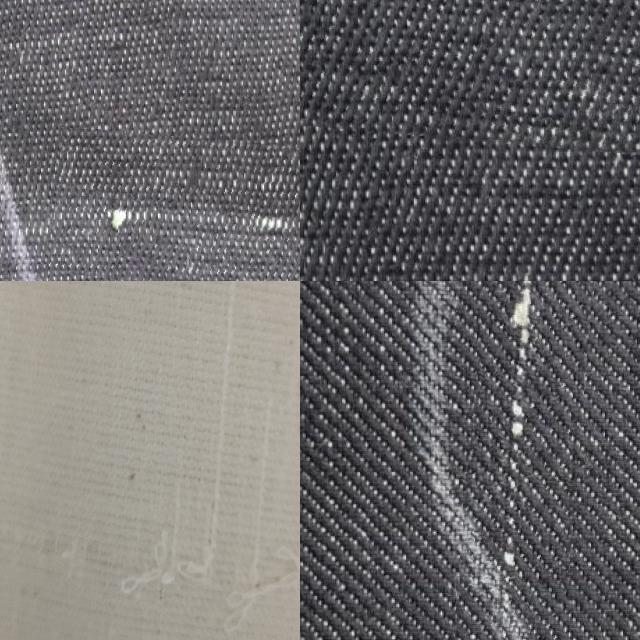Thread_other: (0, 281, 300, 640), (300, 0, 640, 153), (457, 281, 587, 640), (51, 133, 300, 281)
